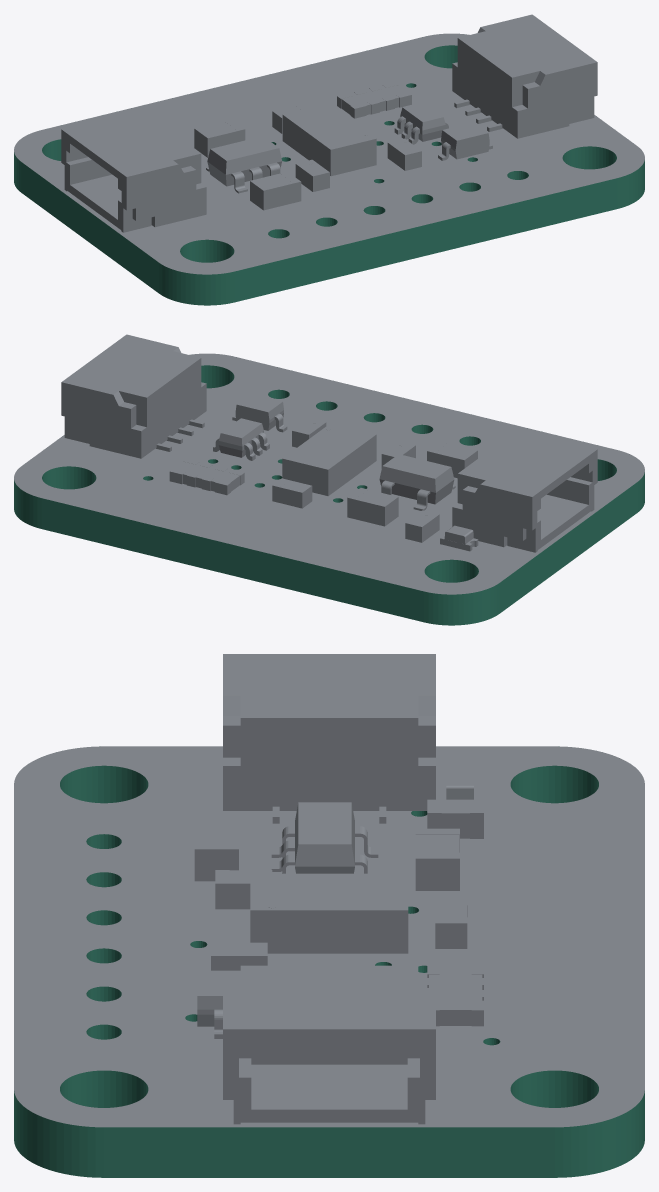
Rendered from reference-range.glb.
The picture shows the model from 3 angles, top to bottom: view 1: azimuth 30°, elevation 25°; view 2: azimuth 150°, elevation 25°; view 3: azimuth 270°, elevation 25°; orthographic projection. The views are drawn at different scales.
Parts seen in each view (by area): view 1: VL53L4CD; view 2: VL53L4CD; view 3: VL53L4CD.
Boxes of the visible parts, box(x1,y1,x2,y2) form: VL53L4CD: box(14, 14, 644, 305); VL53L4CD: box(14, 334, 644, 625); VL53L4CD: box(14, 654, 644, 1177).
Size of the model in its own units: 1 by 0.1783 by 0.7.
